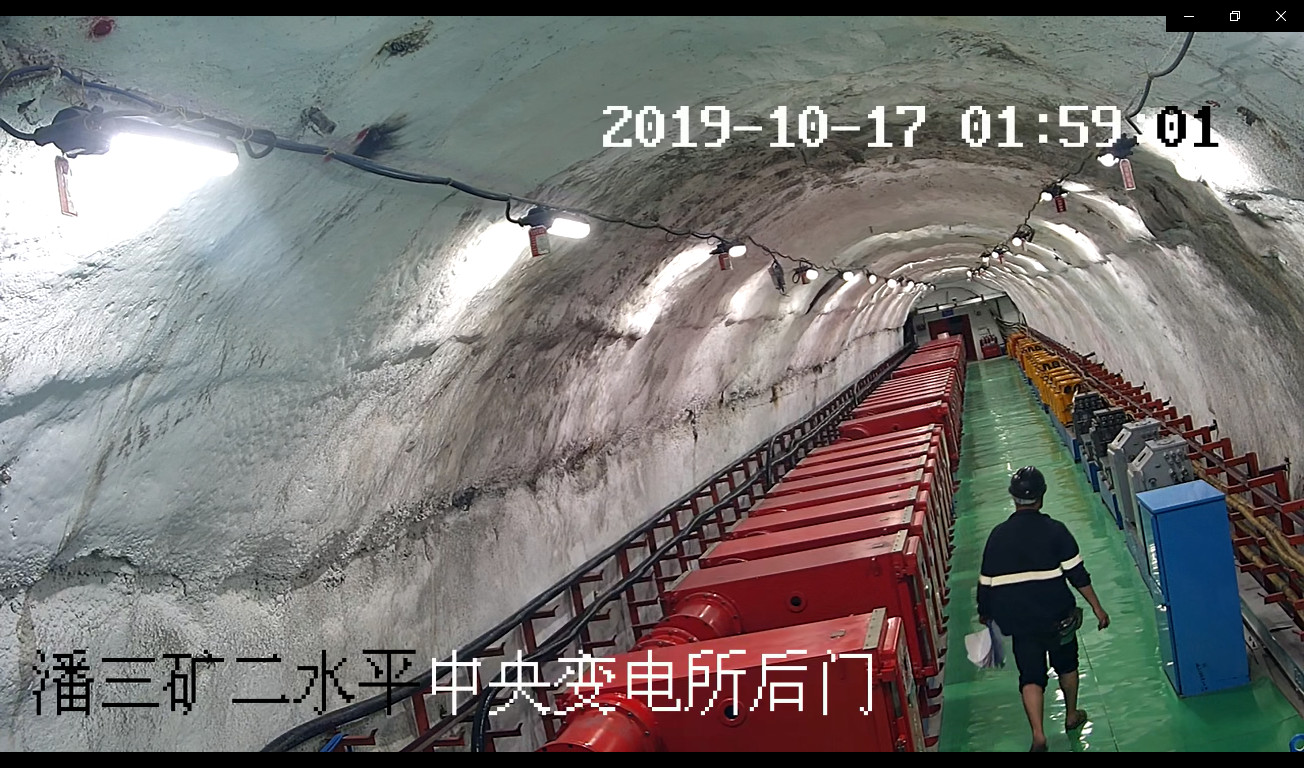helmet: (1008, 465, 1047, 499)
